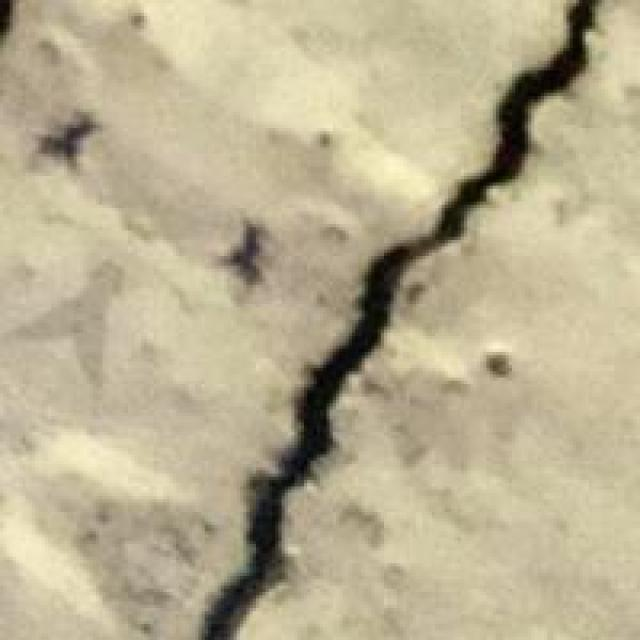crack: (208, 0, 637, 637)
